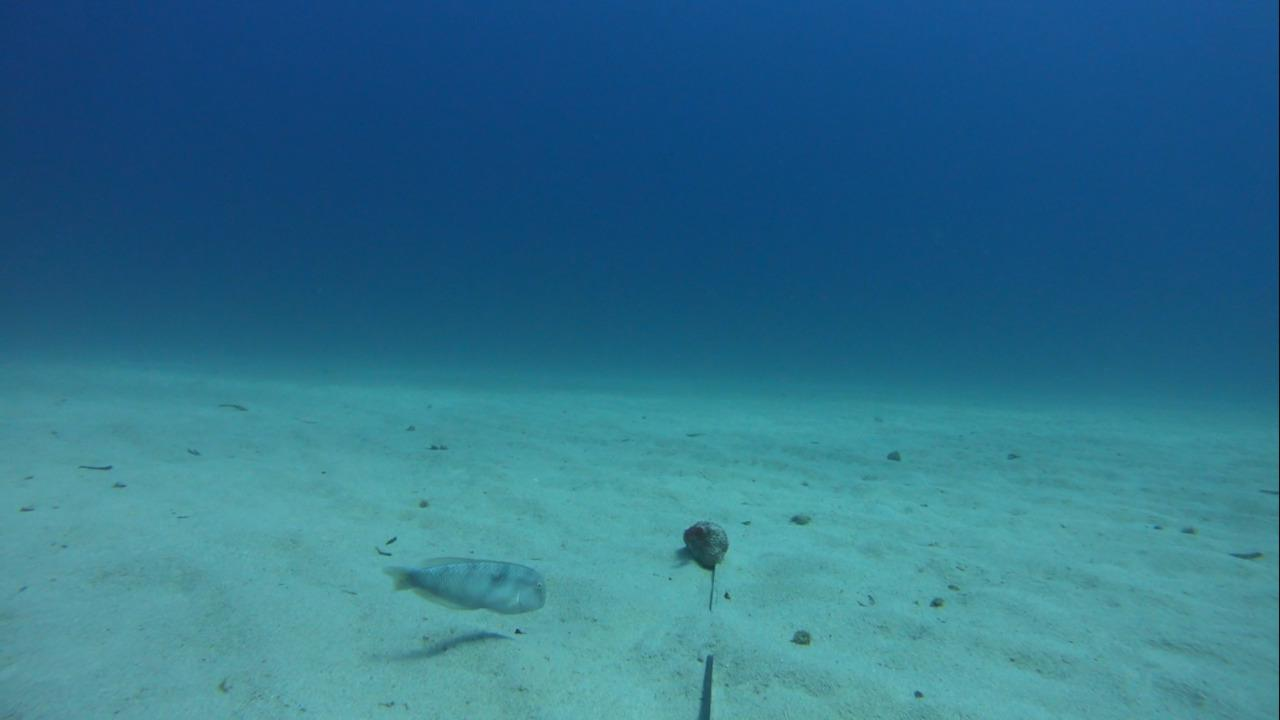raor: (380, 553, 551, 621)
